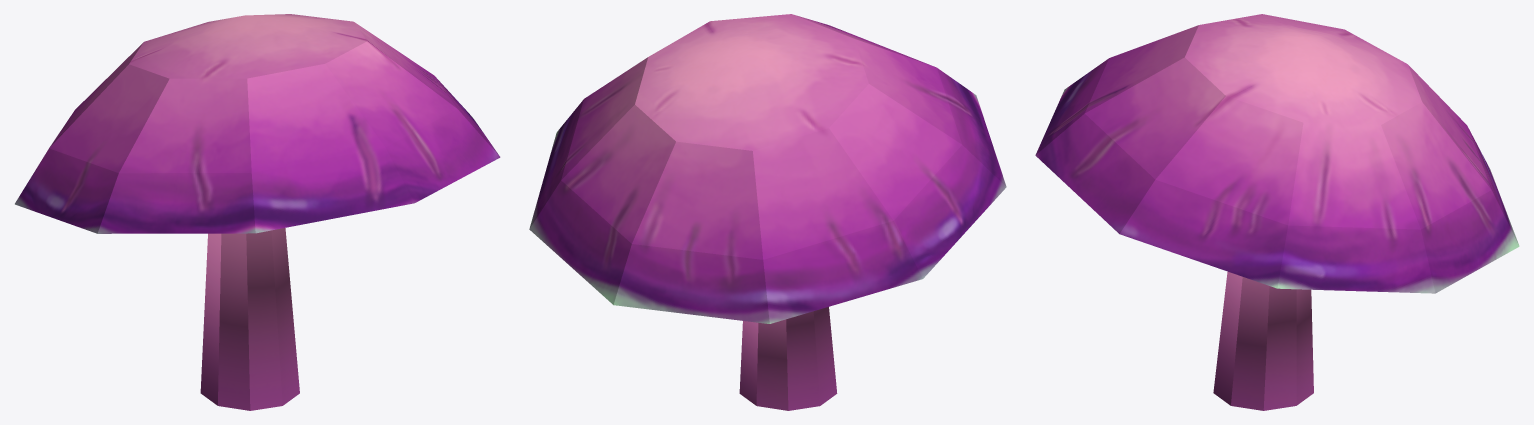
The model's file is new small mushroom.fbx.
3 renders of one model, left to right at view 1: azimuth 30°, elevation 25°; view 2: azimuth 150°, elevation 25°; view 3: azimuth 270°, elevation 25°, orthographic. The views are drawn at different scales.
Visible parts, largest first — view 1: pasted__pasted__pCylinder3; view 2: pasted__pasted__pCylinder3; view 3: pasted__pasted__pCylinder3.
Part boxes in pixels (left/top/right/bottom): pasted__pasted__pCylinder3: left=15, top=14, right=500, bottom=410; pasted__pasted__pCylinder3: left=529, top=14, right=1006, bottom=410; pasted__pasted__pCylinder3: left=1035, top=14, right=1519, bottom=410.
Size of the model in its own units: 9.51 by 7.69 by 9.45.
1 material, 1 textured.
